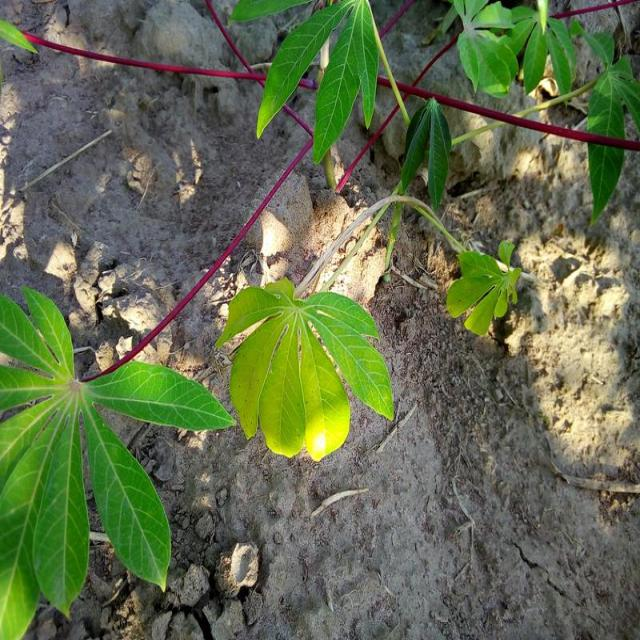cassava leaf: (1, 284, 237, 638), (215, 275, 395, 461), (312, 0, 381, 165)
